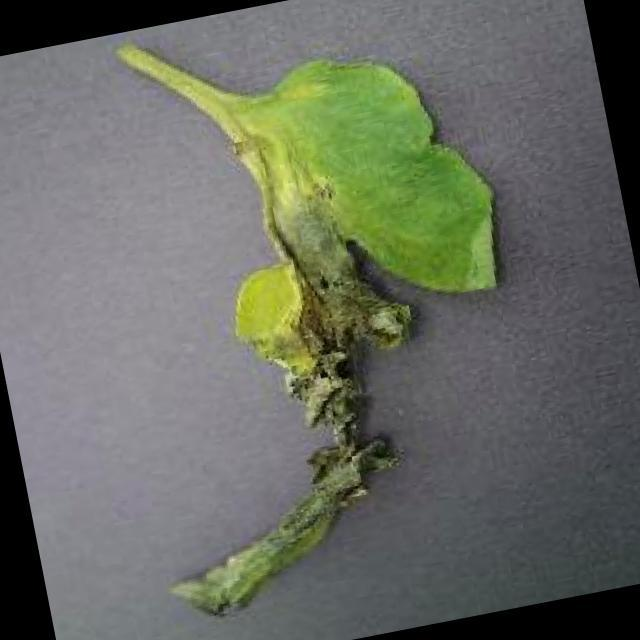Tomato late blight leaf: (73, 31, 565, 635)
